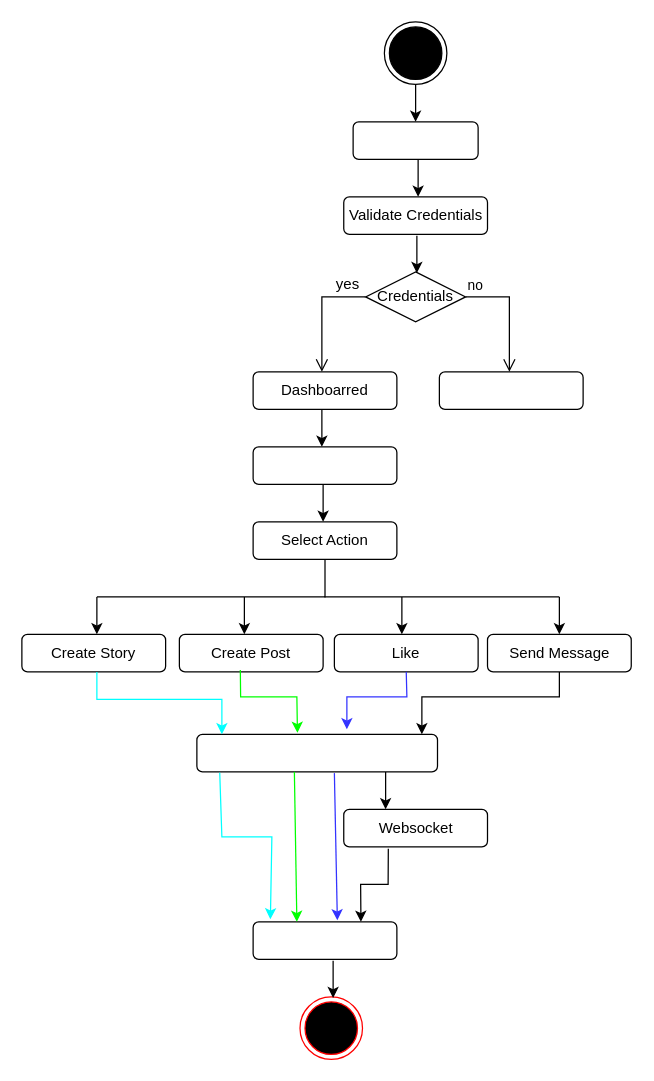
The diagram is 654 pixels wide and 1081 high, and some of its shapes have lost their labels. Here are the shapes that lost their labels. From the top down, the box of each, then its label:
(352, 121, 478, 159): Enter Credentials
(438, 371, 583, 409): Error
(252, 446, 397, 484): View feed
(196, 733, 438, 772): Saved DB
(252, 921, 397, 959): Logout
